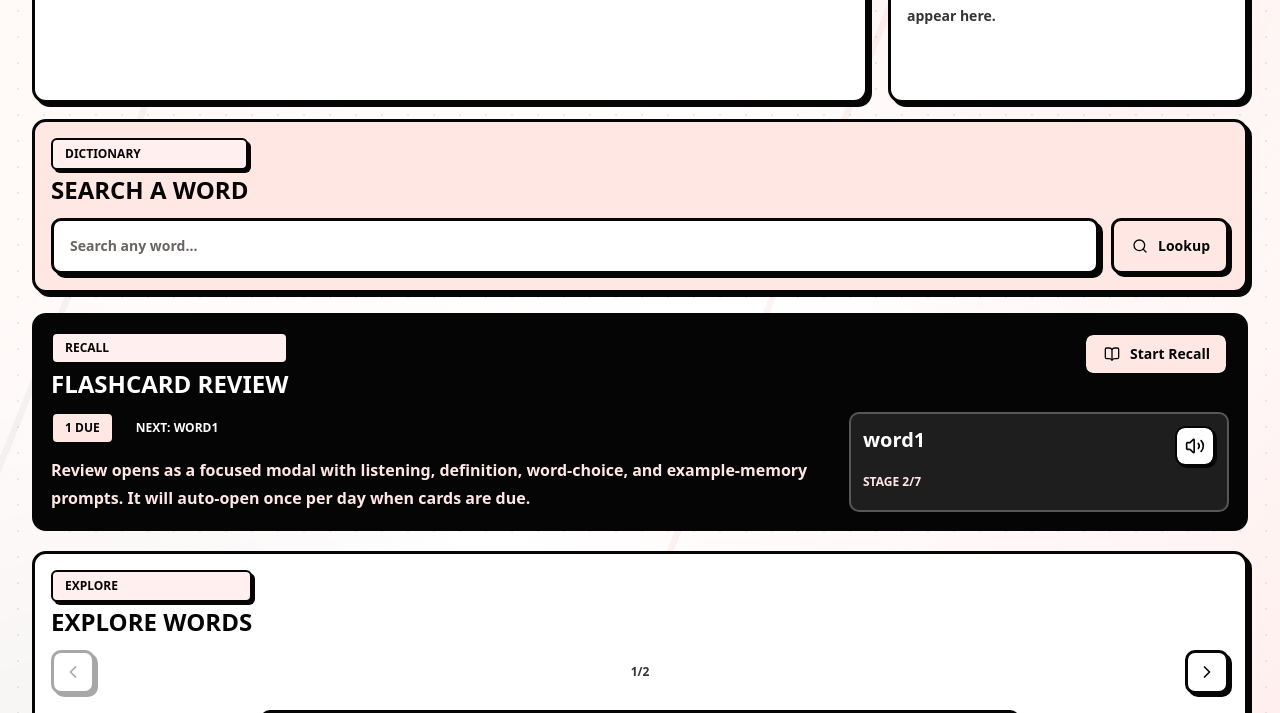
Scenario: VocabularyDashboard › grades recall instantly and lets the server verdict win
(page scrolled)
Click the button "Start Recall": (1156,354) [1083,332,1229,376]
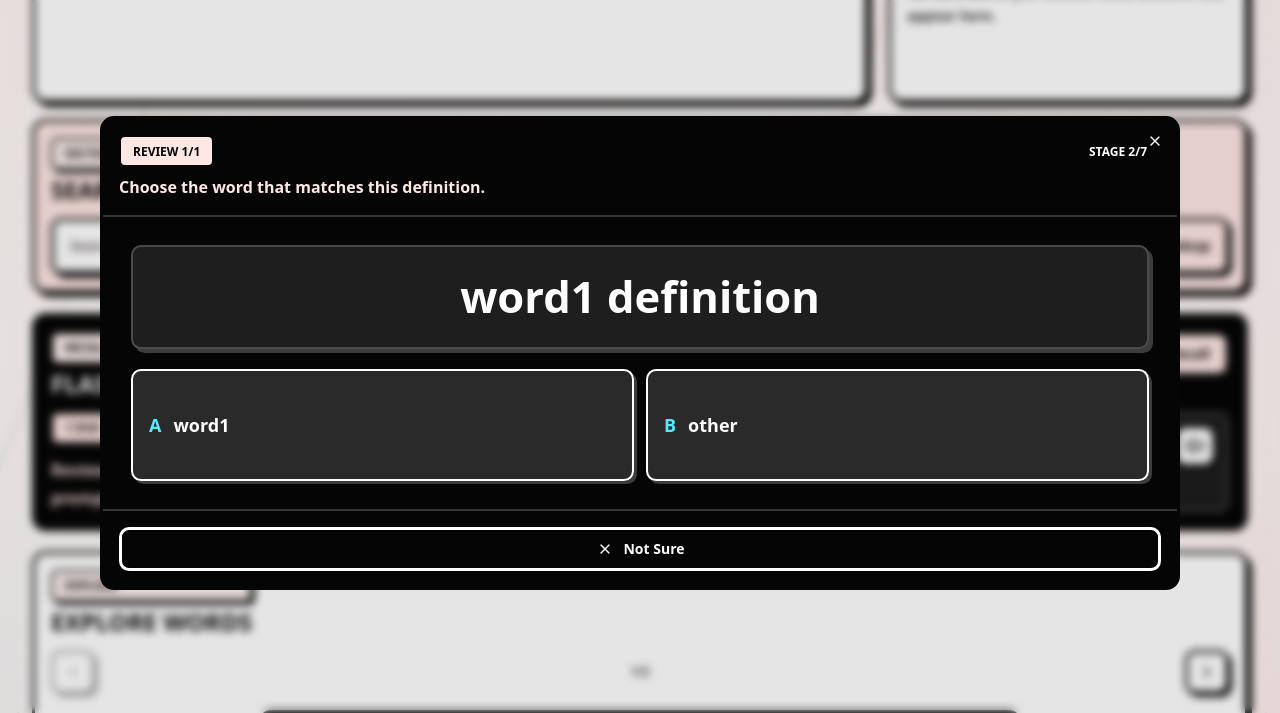
Click the button "B other": (713,425) [646,369,1149,481]
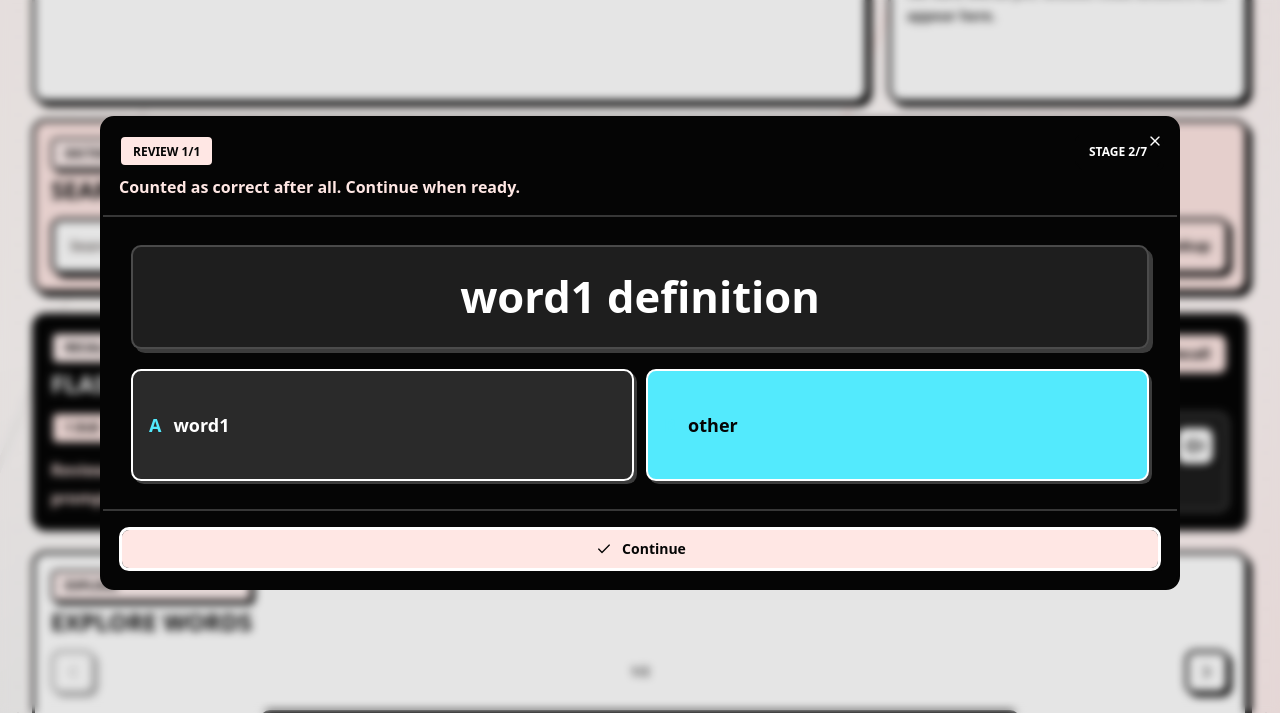
Result: the text "Counted as correct after all. Continue when ready." is shown at [119,176,520,198]
